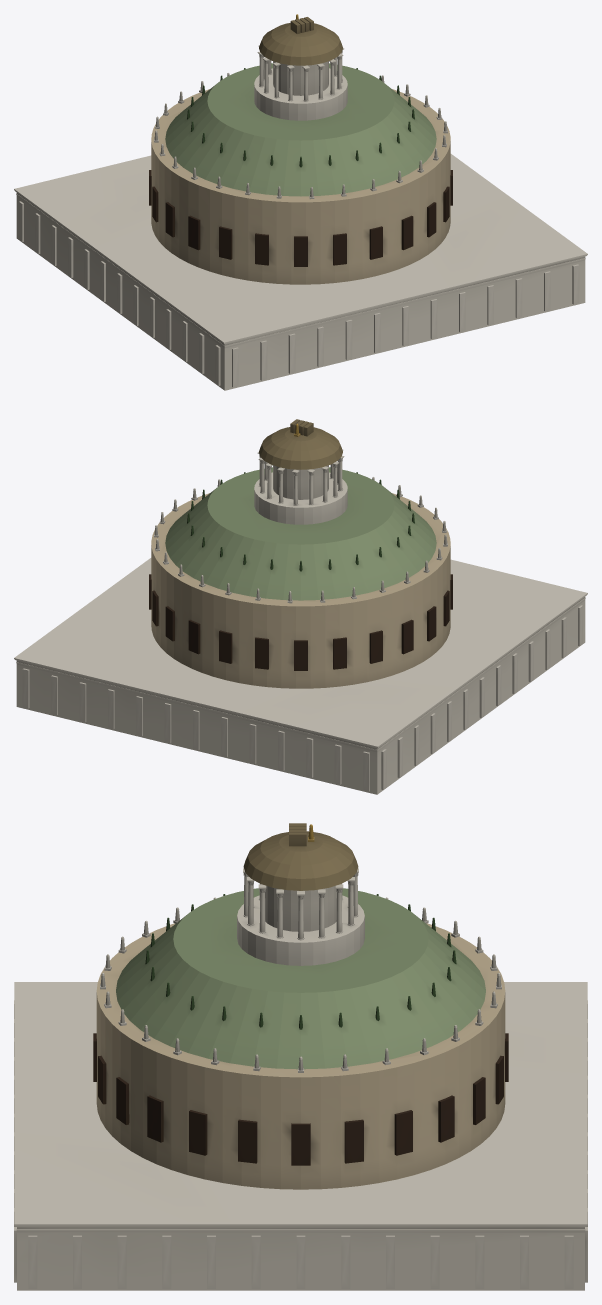
File: mausoleum-of-hadrian.glb
The picture shows the model from 3 angles, top to bottom: view 1: azimuth 30°, elevation 25°; view 2: azimuth 150°, elevation 25°; view 3: azimuth 270°, elevation 25°; orthographic projection. The views are drawn at different scales.
Visible parts, largest first — view 1: p0_base, p2_top, p1_drum; view 2: p0_base, p2_top, p1_drum; view 3: p0_base, p2_top, p1_drum.
Boxes of the visible parts, box(x1,y1,x2,y2) form: p0_base: box(14, 154, 587, 390); p2_top: box(165, 14, 436, 196); p1_drum: box(149, 73, 452, 284); p0_base: box(14, 558, 587, 794); p2_top: box(165, 419, 436, 600); p1_drum: box(149, 477, 452, 688); p0_base: box(14, 982, 587, 1290); p2_top: box(116, 823, 485, 1069); p1_drum: box(93, 897, 508, 1189).
Size of the model in its own units: 89.9 by 59.83 by 89.9.
